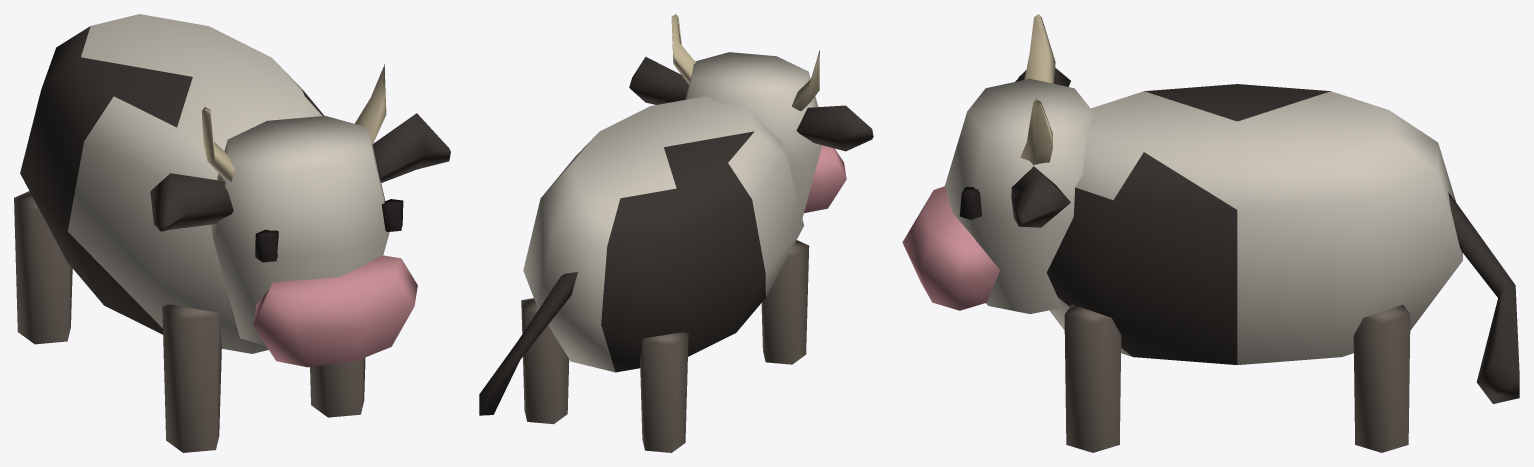
The model's file is mucca.glb.
3 views of the same model, side by side, from view 1: azimuth 30°, elevation 25°; view 2: azimuth 150°, elevation 25°; view 3: azimuth 270°, elevation 25° (orthographic). The views are drawn at different scales.
Size of the model in its own units: 0.9016 by 1.04 by 1.67.
